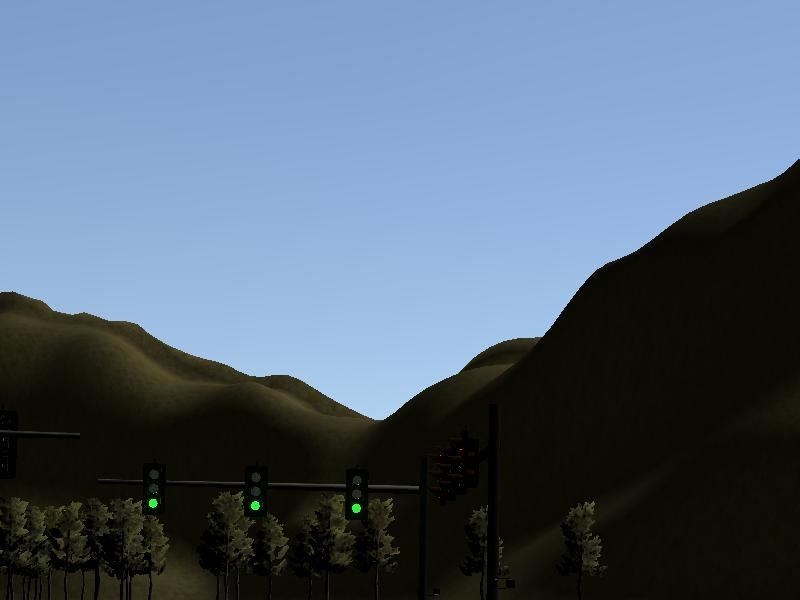Green: (141, 463, 164, 516), (344, 463, 365, 516), (243, 459, 262, 513)
